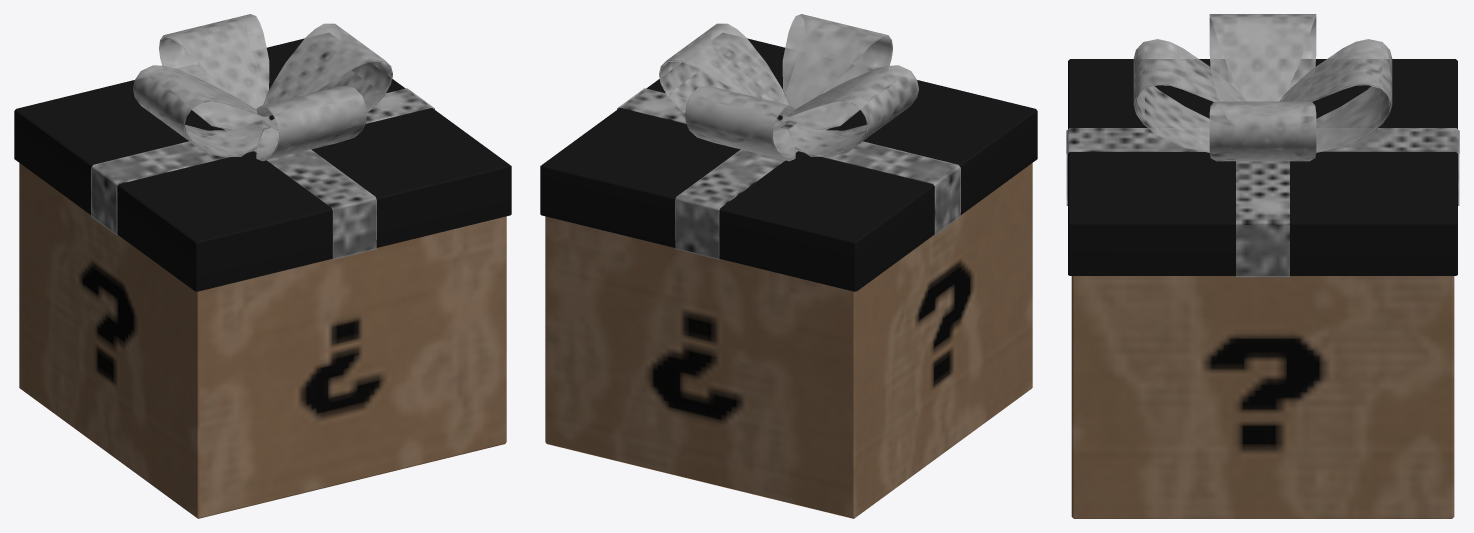
3 renders of one model, left to right at view 1: azimuth 30°, elevation 25°; view 2: azimuth 150°, elevation 25°; view 3: azimuth 270°, elevation 25°, orthographic. The views are drawn at different scales.
Parts seen in each view (by area): view 1: defaultMaterial (×3); view 2: defaultMaterial (×3); view 3: defaultMaterial (×3).
Part boxes in pixels (x1,y1,x2,y2): defaultMaterial (×3): [14, 14, 511, 518]; defaultMaterial (×3): [540, 14, 1037, 518]; defaultMaterial (×3): [1066, 14, 1459, 518].
Bounding box in the file's own units: 1.88 × 2 × 1.88.
3 materials, 2 textured.
